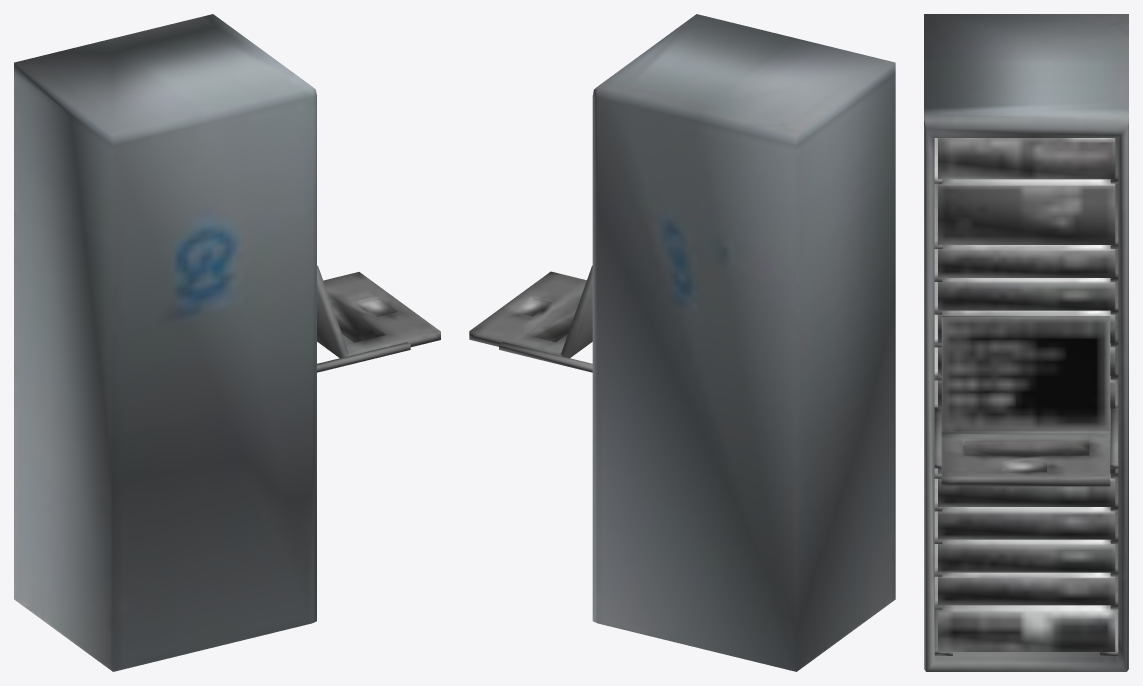
File: server-console.glb
3 renders of one model, left to right at view 1: azimuth 30°, elevation 25°; view 2: azimuth 150°, elevation 25°; view 3: azimuth 270°, elevation 25°, orthographic. The views are drawn at different scales.
Visible parts, largest first — view 1: low; view 2: low; view 3: low.
Part boxes in pixels (x1,y1,x2,y2): low: [14, 14, 440, 671]; low: [469, 14, 895, 671]; low: [924, 14, 1128, 671].
Size of the model in its own units: 1.25 by 1.9 by 0.636.
Materials: 1 (1 with a texture image).
